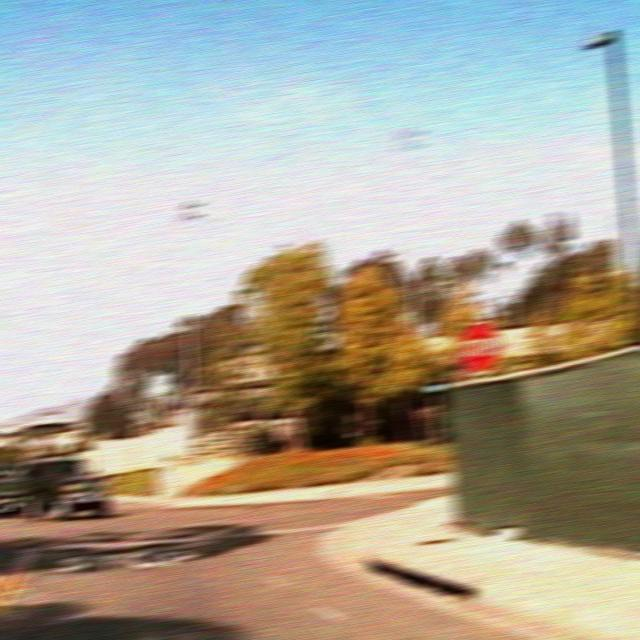stop: (454, 320, 502, 373)
